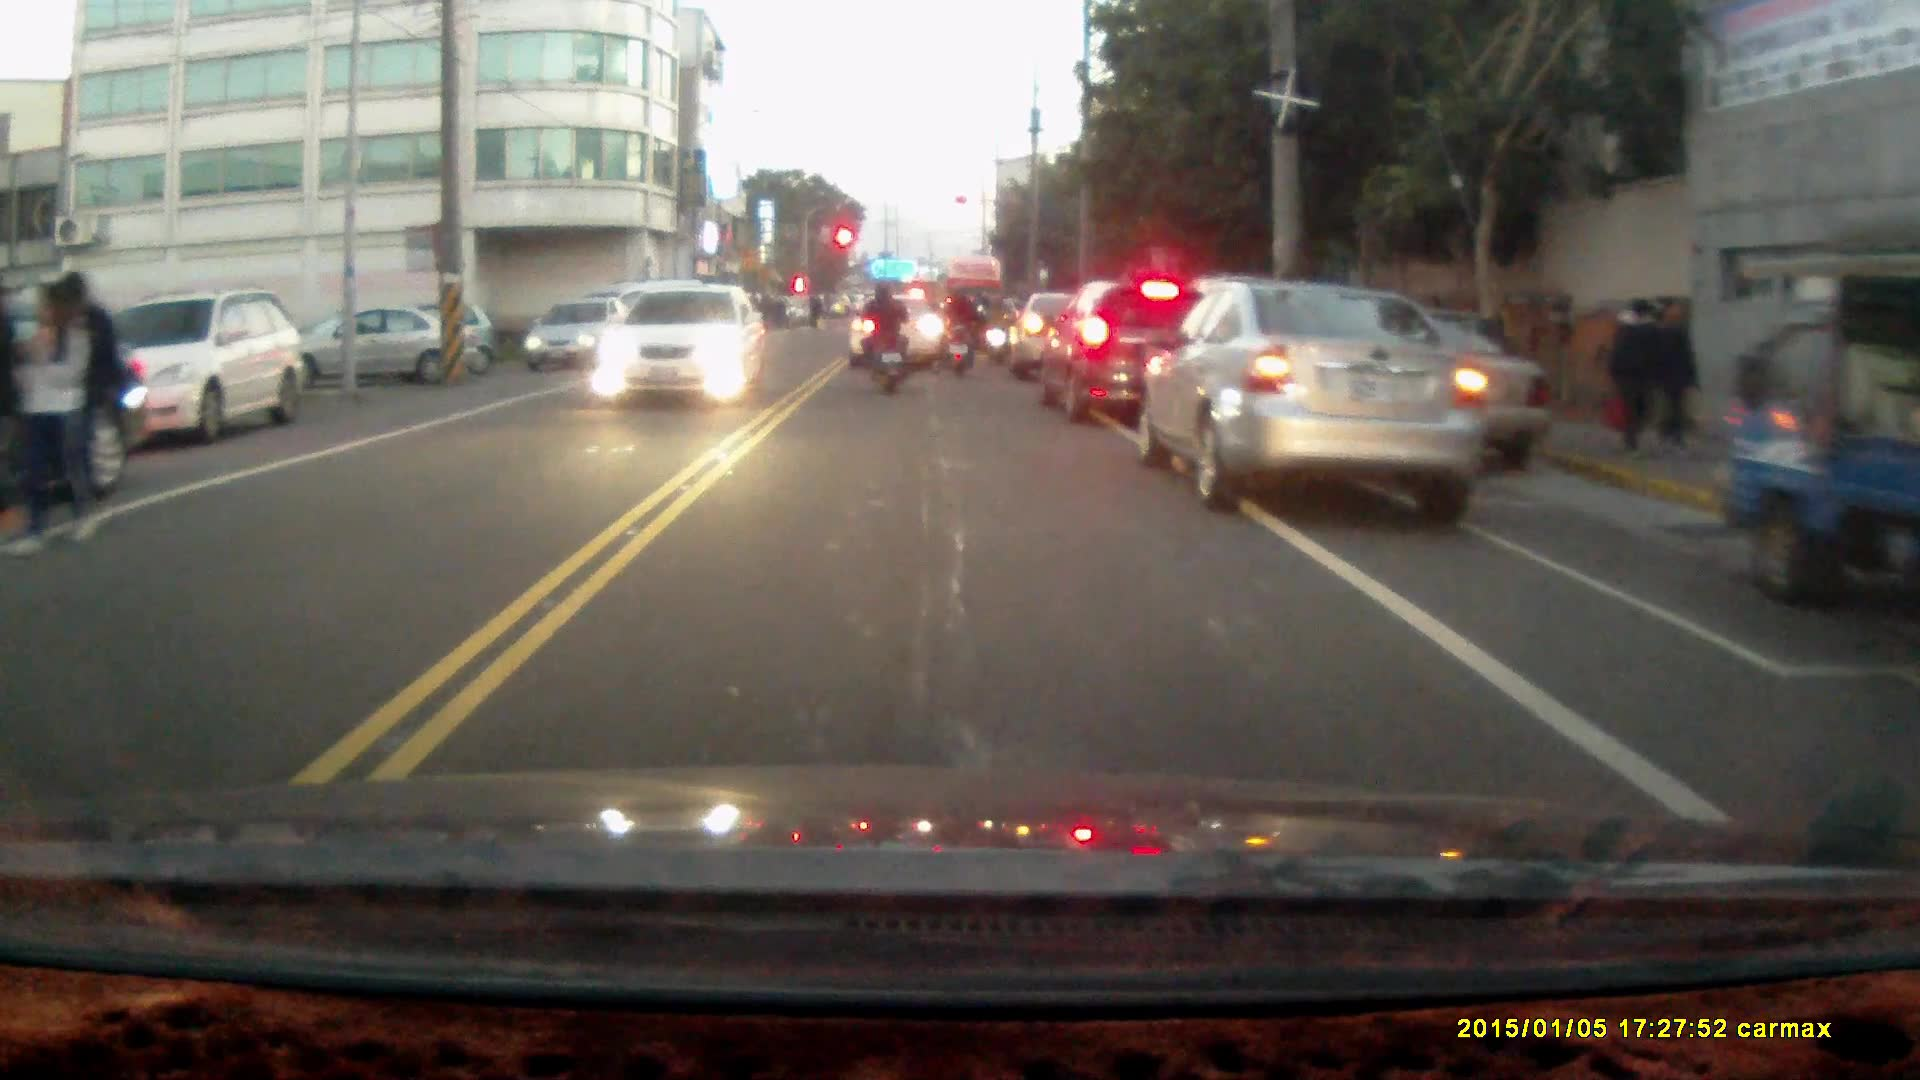pedestrian: (9, 277, 88, 559), (1642, 291, 1700, 451), (1606, 295, 1661, 456)
rider: (855, 274, 906, 392), (935, 279, 983, 375)
vehicle: (1143, 277, 1487, 517), (1715, 219, 1920, 619), (47, 288, 307, 445), (1, 309, 152, 531), (1041, 276, 1201, 421), (590, 282, 766, 404), (295, 303, 483, 383), (528, 294, 635, 370), (851, 292, 950, 367)
